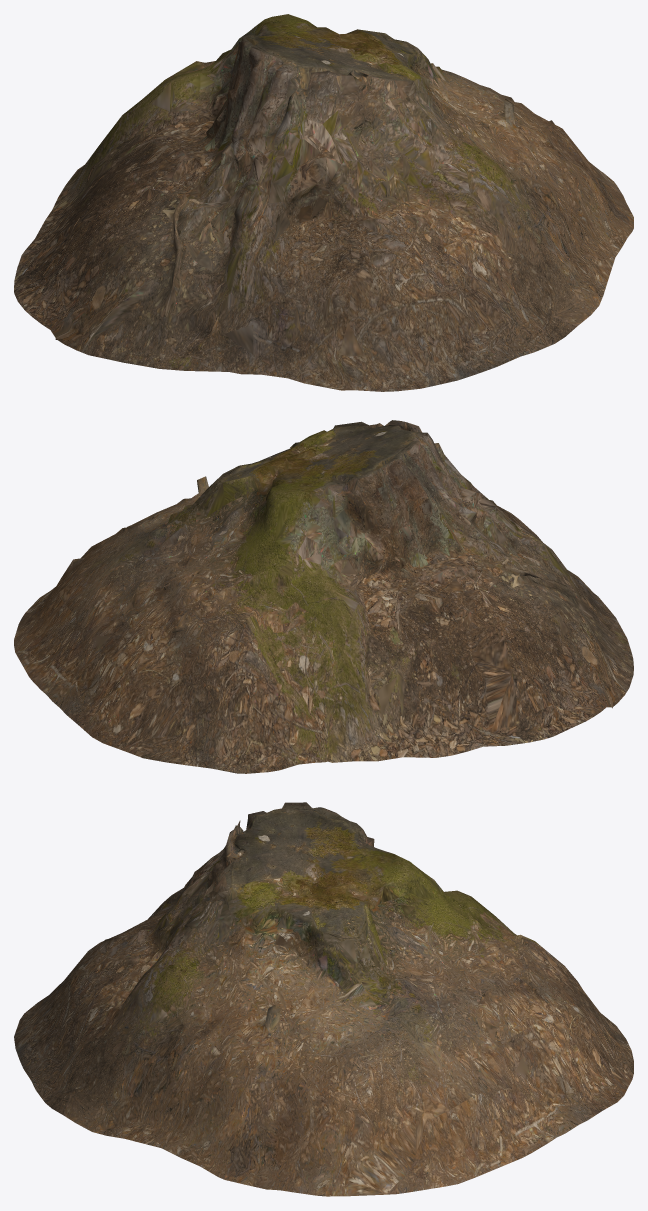
Rendered from pine_stump.glb.
The picture shows the model from 3 angles, top to bottom: view 1: azimuth 30°, elevation 25°; view 2: azimuth 150°, elevation 25°; view 3: azimuth 270°, elevation 25°; orthographic projection. The views are drawn at different scales.
Visible parts, largest first — view 1: pine_stump; view 2: pine_stump; view 3: pine_stump.
Part boxes in pixels (<box>): pine_stump: <box>14,14,633,391</box>; pine_stump: <box>14,420,633,773</box>; pine_stump: <box>14,802,633,1196</box>.
Bounding box in the file's own units: 1.97 × 0.7675 × 1.92.
1 material, 1 textured.
